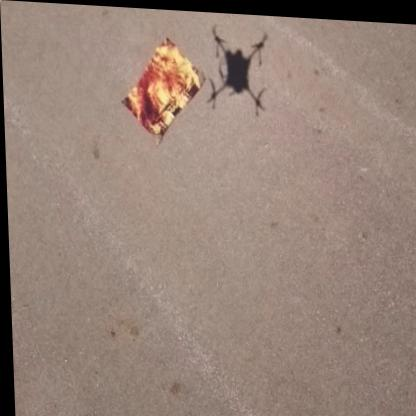fire-poster: (118, 30, 207, 144)
